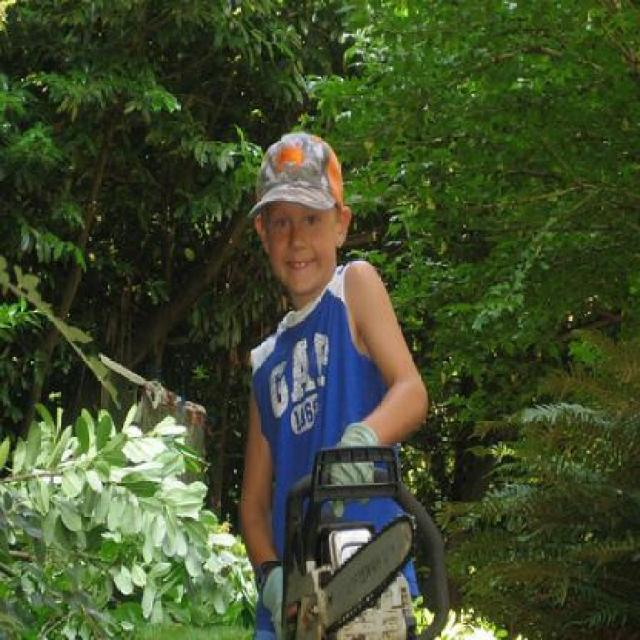Chainsaw: (280, 444, 451, 638)
